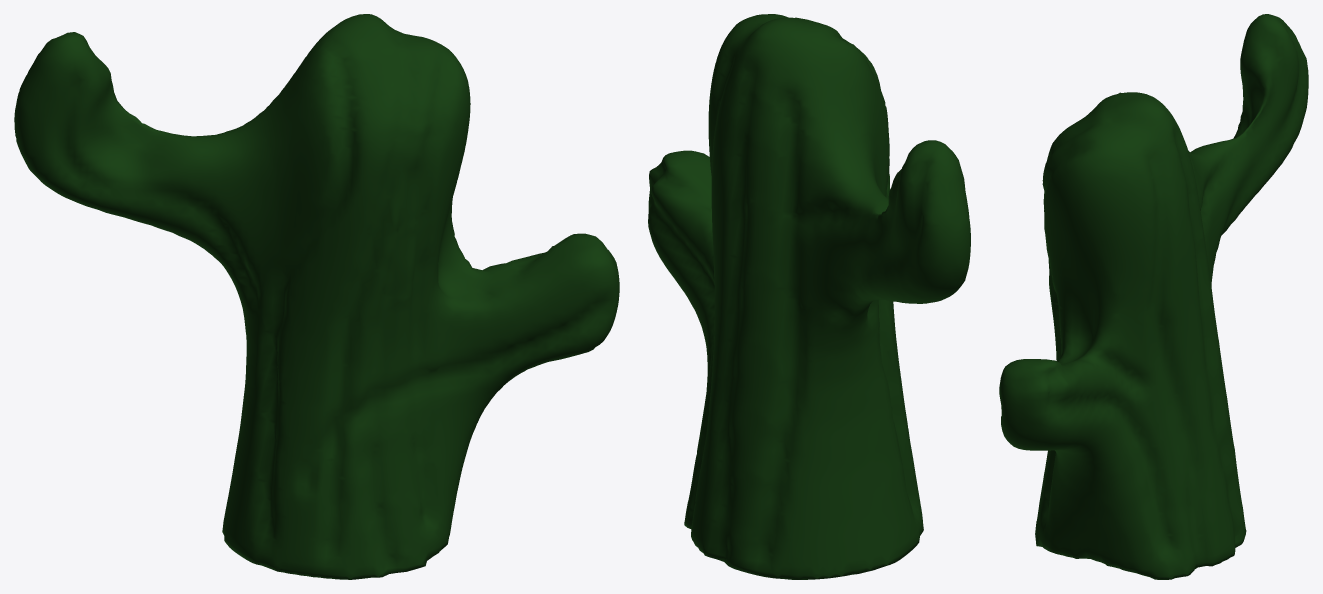
File: cactus.gltf.glb
The picture shows the model from 3 angles, left to right: view 1: azimuth 30°, elevation 25°; view 2: azimuth 150°, elevation 25°; view 3: azimuth 270°, elevation 25°; orthographic projection. The views are drawn at different scales.
Parts seen in each view (by area): view 1: Cylinder; view 2: Cylinder; view 3: Cylinder.
Part boxes in pixels (x1,y1,x2,y2): Cylinder: (14, 14, 619, 579); Cylinder: (648, 14, 970, 579); Cylinder: (999, 14, 1308, 579).
Size of the model in its own units: 5.85 by 6.23 by 3.9.
